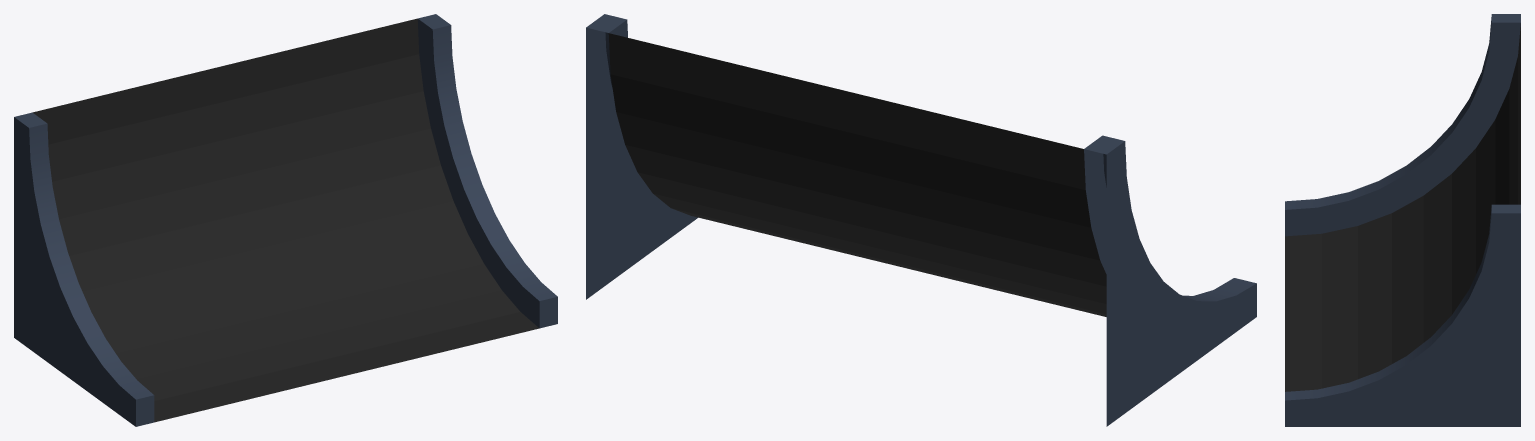
File: CollRamp.fbx
3 renders of one model, left to right at view 1: azimuth 30°, elevation 25°; view 2: azimuth 150°, elevation 25°; view 3: azimuth 270°, elevation 25°, orthographic. The views are drawn at different scales.
Parts seen in each view (by area): view 1: Plane.014, Plane.006, Plane.010, Plane.011, Plane.002, Plane.007, Plane.003, Plane.012, Plane.008, Plane.004, Plane.013, Plane.009; view 2: Plane.003, Plane.014, Plane.002, Plane.010, Plane.004, Plane.006, Plane.011, Plane.007, Plane.012; view 3: Plane.004, Plane.014, Plane.009, Plane.013, Plane.008, Plane.012, Plane.007, Plane.011, Plane.006, Plane.010, Plane.002, Plane.003.
Part boxes in pixels (<box>): Plane.014: <box>14,112,154,426</box>; Plane.006: <box>59,128,440,255</box>; Plane.010: <box>52,91,430,218</box>; Plane.011: <box>69,165,453,291</box>; Plane.002: <box>48,54,423,181</box>; Plane.007: <box>82,201,467,323</box>; Plane.003: <box>32,18,419,144</box>; Plane.012: <box>98,234,483,353</box>; Plane.008: <box>116,264,501,379</box>; Plane.004: <box>417,14,557,328</box>; Plane.013: <box>137,290,520,400</box>; Plane.009: <box>154,312,539,422</box>; Plane.003: <box>608,33,1085,189</box>; Plane.014: <box>1084,135,1256,426</box>; Plane.002: <box>610,74,1091,227</box>; Plane.010: <box>616,112,1100,260</box>; Plane.004: <box>586,14,697,299</box>; Plane.006: <box>625,145,1106,286</box>; Plane.011: <box>638,172,1106,303</box>; Plane.007: <box>653,193,1106,314</box>; Plane.012: <box>672,208,1106,316</box>; Plane.004: <box>1285,204,1520,426</box>; Plane.014: <box>1285,14,1520,236</box>; Plane.009: <box>1285,233,1321,391</box>; Plane.013: <box>1322,226,1357,388</box>; Plane.008: <box>1358,213,1391,379</box>; Plane.012: <box>1392,196,1423,363</box>; Plane.007: <box>1423,174,1451,342</box>; Plane.011: <box>1452,148,1475,314</box>; Plane.006: <box>1476,120,1495,273</box>; Plane.010: <box>1495,89,1509,204</box>; Plane.002: <box>1509,57,1517,204</box>; Plane.003: <box>1518,23,1520,204</box>.
Size of the model in its own units: 200 by 100 by 100.
